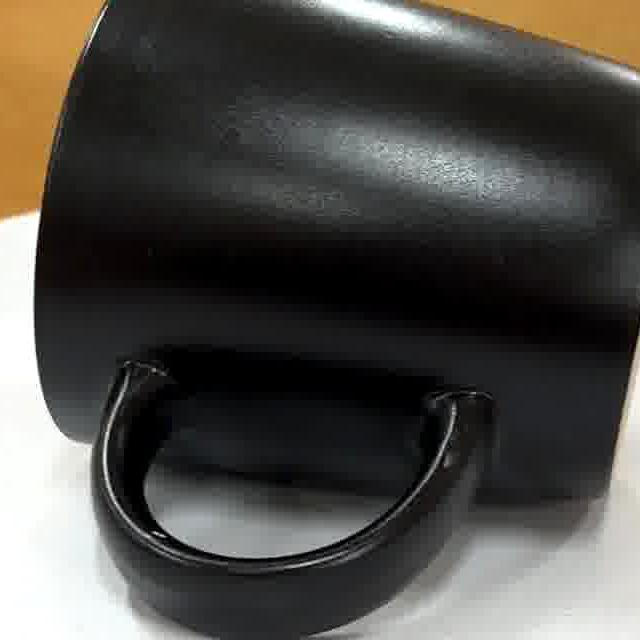cup: (35, 0, 640, 640)
